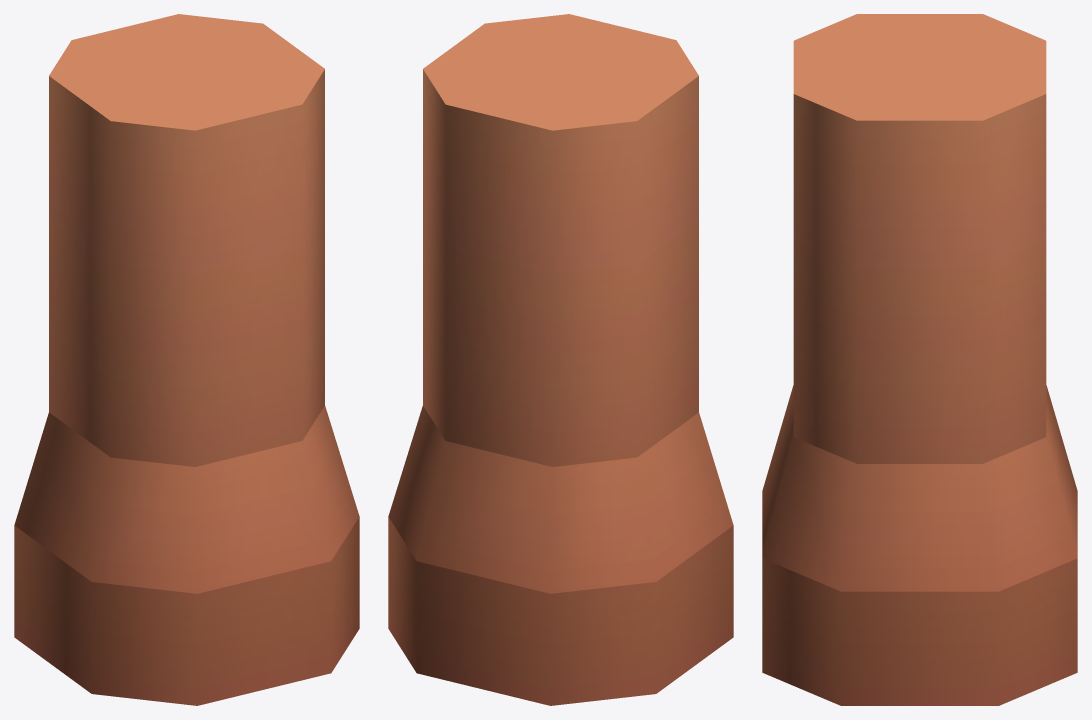
File: support-bottom.glb
3 renders of one model, left to right at view 1: azimuth 30°, elevation 25°; view 2: azimuth 150°, elevation 25°; view 3: azimuth 270°, elevation 25°, orthographic. The views are drawn at different scales.
Parts seen in each view (by area): view 1: support-bottom; view 2: support-bottom; view 3: support-bottom.
Part boxes in pixels (x1,y1,x2,y2): support-bottom: [14, 14, 359, 705]; support-bottom: [388, 14, 733, 705]; support-bottom: [762, 14, 1077, 705].
Bounding box in the file's own units: 0.5001 × 1 × 0.5001.
1 material, 1 textured.
